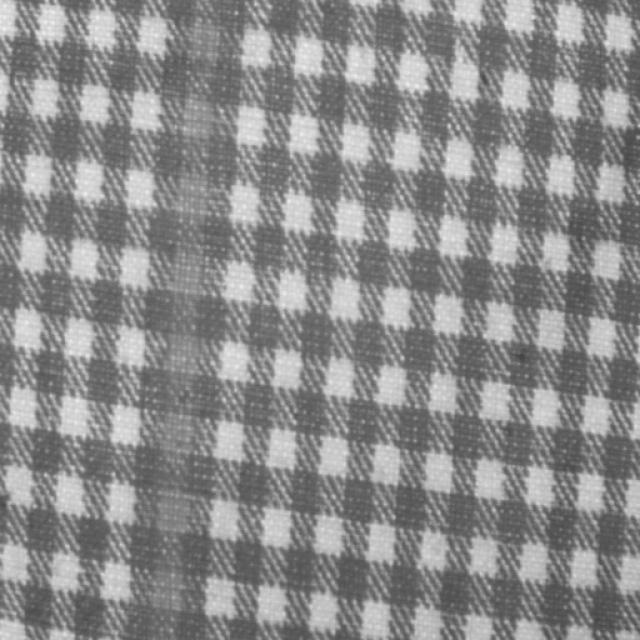Stain-Defect: (148, 10, 225, 639)
